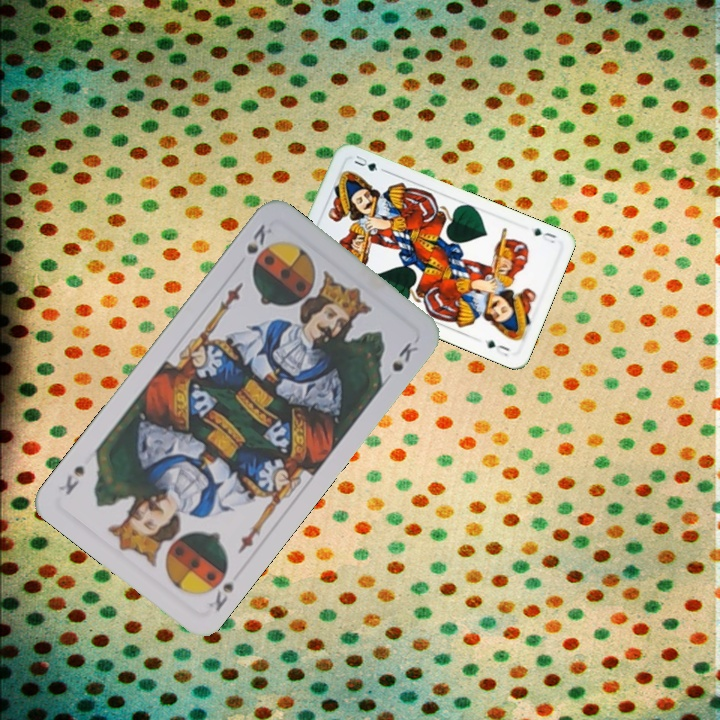GU: (527, 224, 559, 246)
SK: (242, 219, 275, 257), (204, 578, 237, 614)
